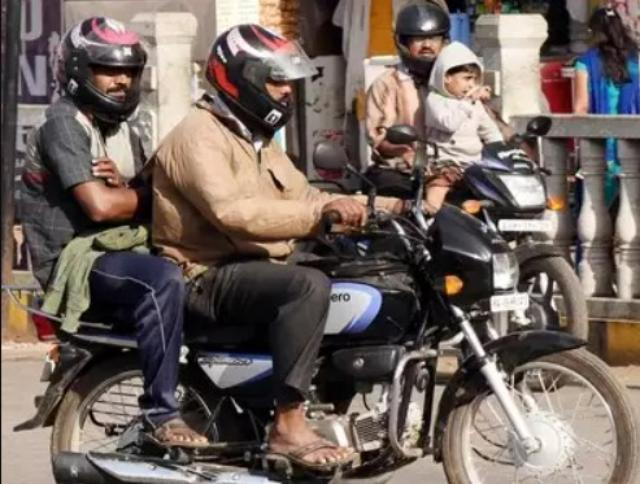licensePlate: (490, 290, 535, 314)
motorcycle: (19, 9, 640, 484)
withHelmet: (203, 24, 315, 131), (56, 17, 149, 122)
